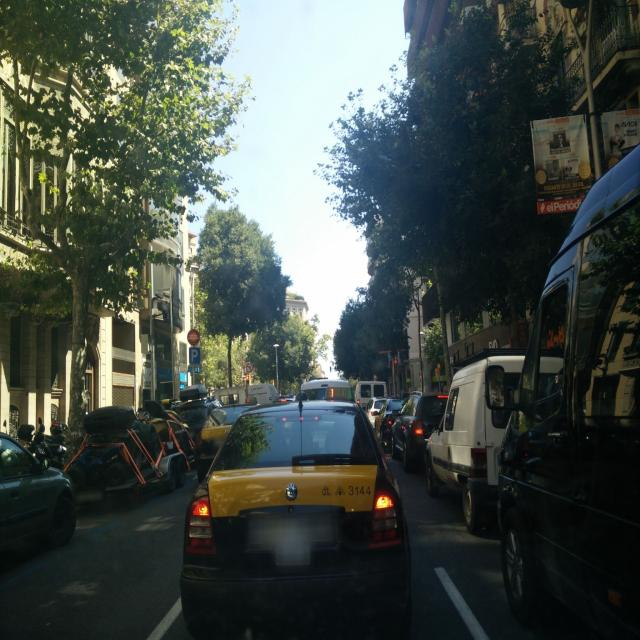car: (495, 113, 640, 639), (180, 399, 412, 640), (424, 345, 528, 533), (0, 429, 78, 582), (391, 391, 448, 472), (194, 401, 251, 480), (375, 398, 405, 450), (297, 378, 355, 402), (355, 380, 387, 410), (366, 397, 389, 430)
